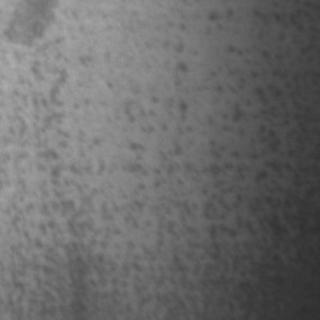pitted_surface: (3, 5, 313, 313)
